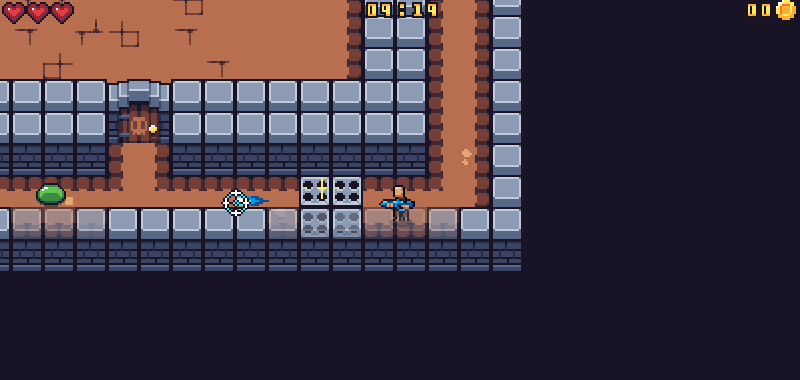door: (103, 76, 176, 144)
enemy_slug: (34, 182, 66, 204)
trap_off: (297, 175, 363, 240)
